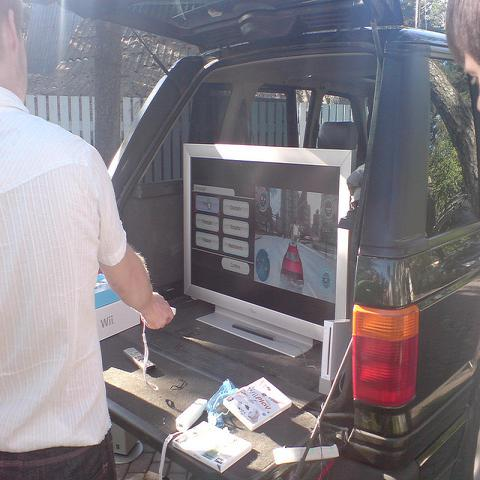truck: (98, 26, 478, 474)
